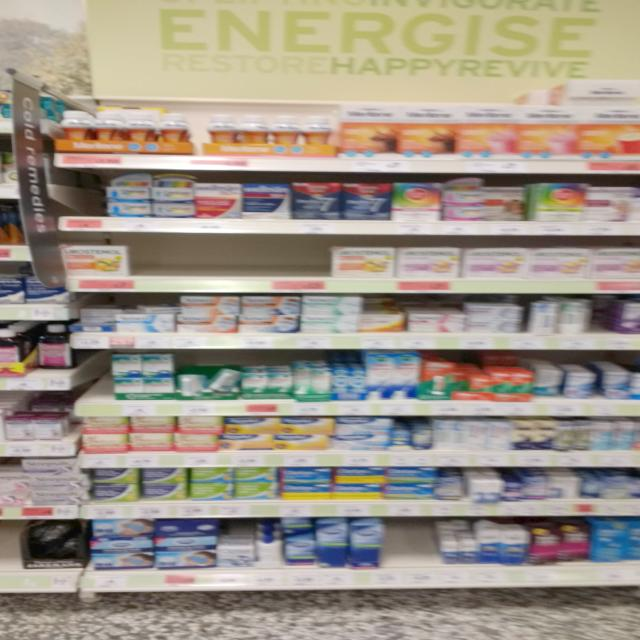empty_space: (147, 238, 313, 275), (396, 518, 420, 562)
